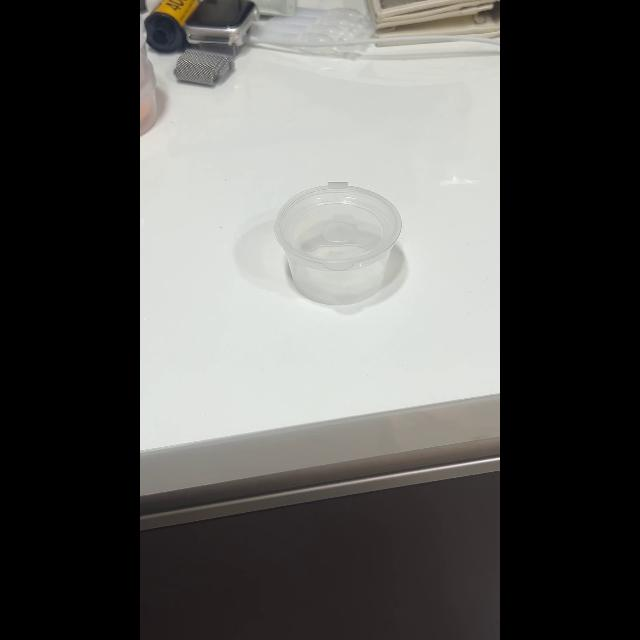clean: (274, 180, 402, 306)
